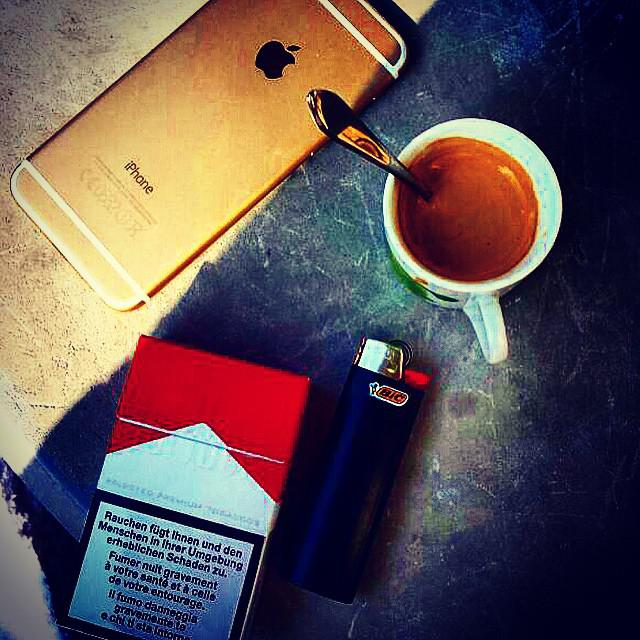marlboro_red: (99, 359, 270, 627)
